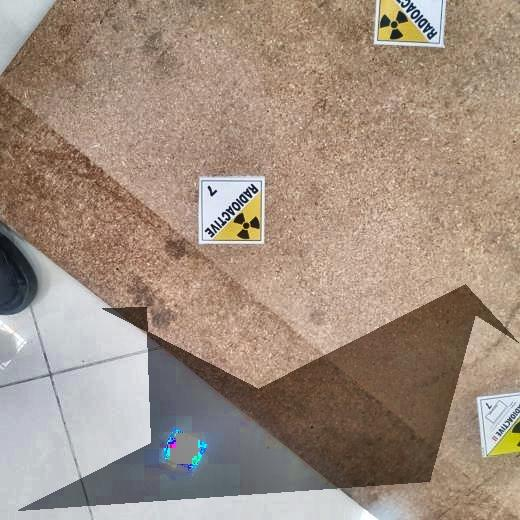radioactive: (200, 176, 265, 245), (374, 1, 443, 47), (477, 394, 520, 455)
